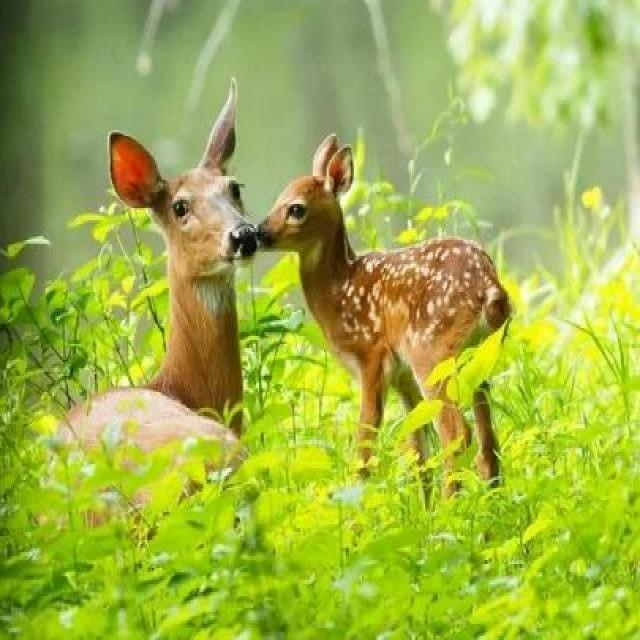deer: (244, 124, 539, 531), (84, 128, 286, 527)
